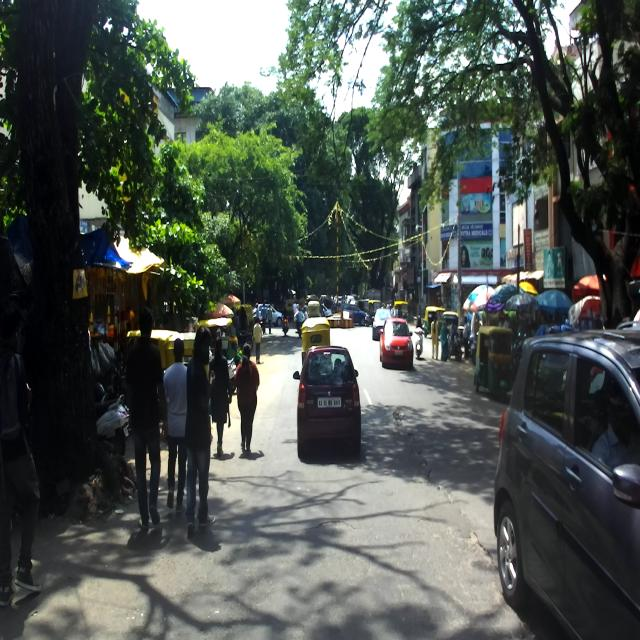car ahead at: (497, 328, 640, 640), (289, 335, 369, 469)
person ahead at: (184, 317, 216, 544)
